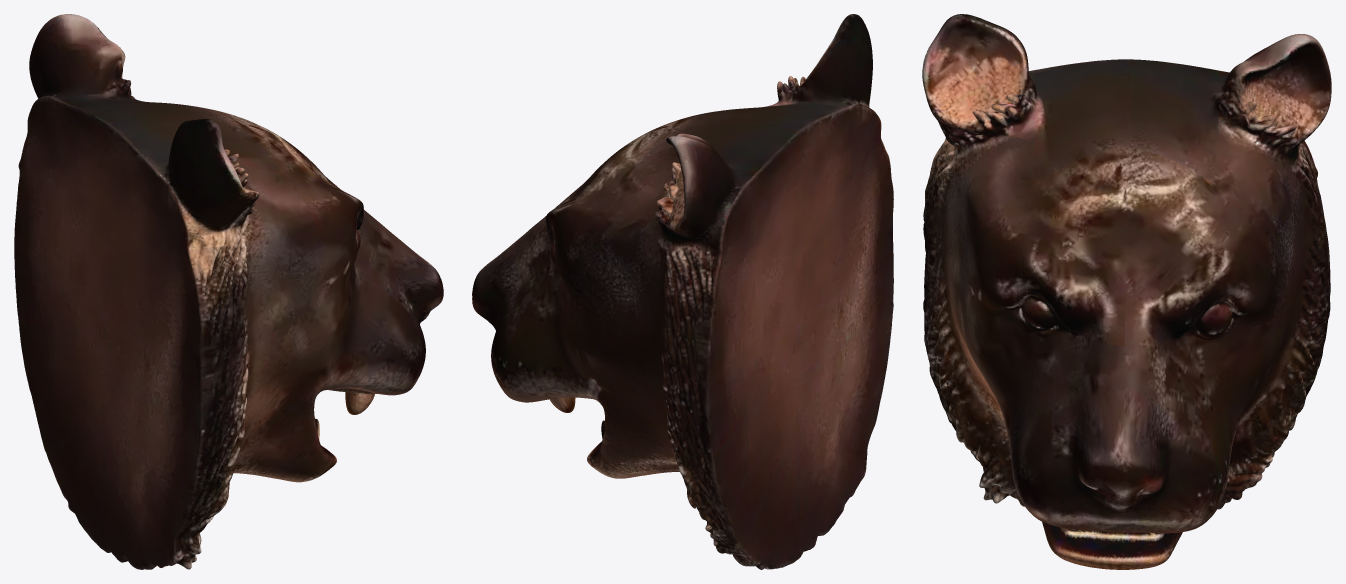
Rendered from tiger model.glb.
The picture shows the model from 3 angles, left to right: view 1: azimuth 30°, elevation 25°; view 2: azimuth 150°, elevation 25°; view 3: azimuth 270°, elevation 25°; orthographic projection. The views are drawn at different scales.
Parts seen in each view (by area): view 1: tripo_node_8d048105-581b-434d-8bed-5ded75c287cf; view 2: tripo_node_8d048105-581b-434d-8bed-5ded75c287cf; view 3: tripo_node_8d048105-581b-434d-8bed-5ded75c287cf.
Part boxes in pixels (<box>): tripo_node_8d048105-581b-434d-8bed-5ded75c287cf: <box>14,14,443,569</box>; tripo_node_8d048105-581b-434d-8bed-5ded75c287cf: <box>472,14,893,569</box>; tripo_node_8d048105-581b-434d-8bed-5ded75c287cf: <box>922,14,1331,569</box>.
Bounding box in the file's own units: 0.7101 × 1 × 0.7116.
Materials: 1 (1 with a texture image).
